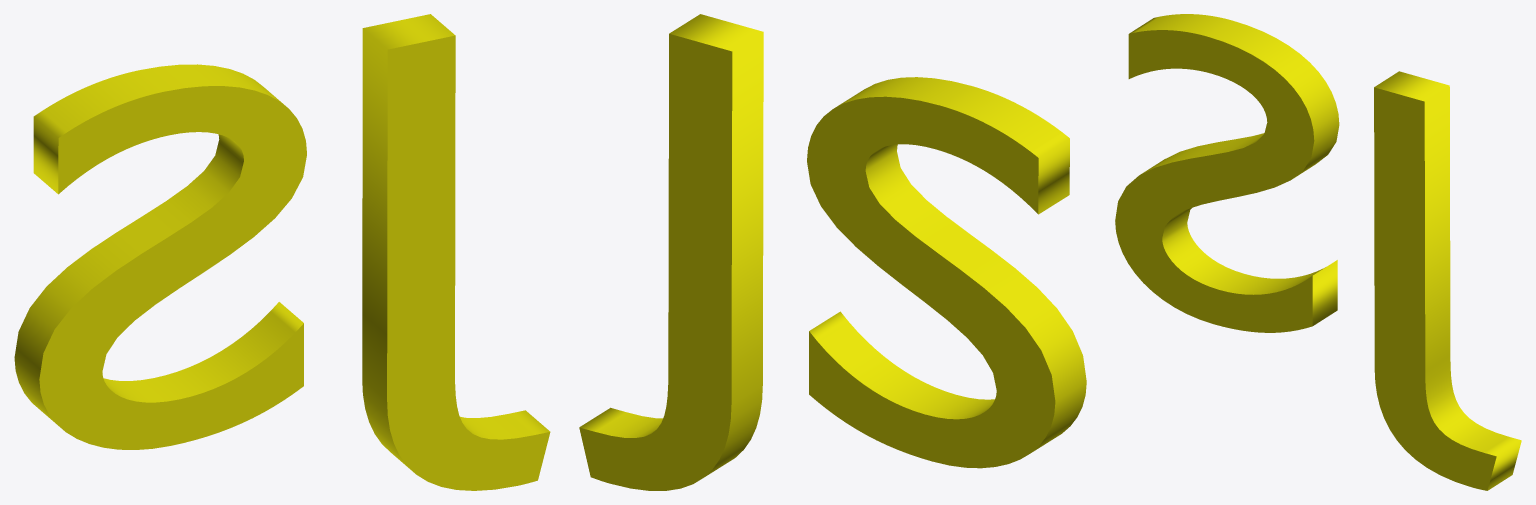
File: javascript.glb
3 views of the same model, side by side, from view 1: azimuth 30°, elevation 25°; view 2: azimuth 150°, elevation 25°; view 3: azimuth 330°, elevation 25° (orthographic). The views are drawn at different scales.
Visible parts, largest first — view 1: Text_0; view 2: Text_0; view 3: Text_0.
Part boxes in pixels (box(x1,y1,x2,y2)): Text_0: box(14, 14, 550, 490); Text_0: box(579, 14, 1086, 490); Text_0: box(1115, 14, 1521, 490).
Size of the model in its own units: 1.02 by 0.9213 by 0.165.
